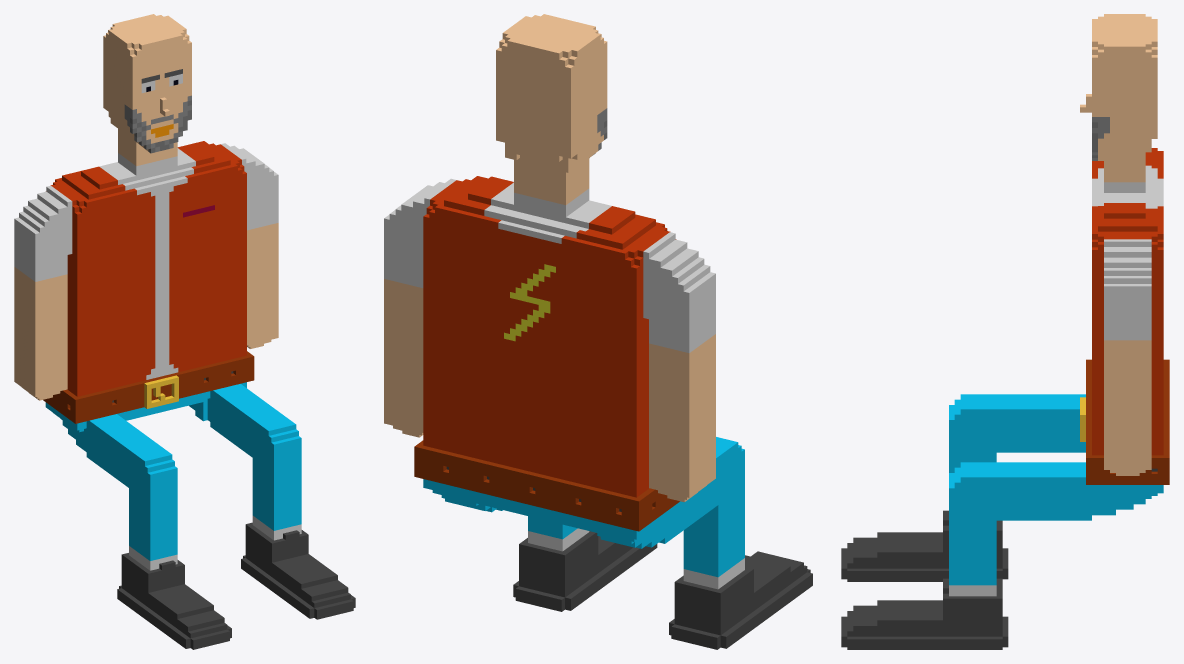
Rendered from clerk-sitting-1.gltf.
3 renders of one model, left to right at view 1: azimuth 30°, elevation 25°; view 2: azimuth 150°, elevation 25°; view 3: azimuth 270°, elevation 25°, orthographic. The views are drawn at different scales.
Visible parts, largest first — view 1: Node; view 2: Node; view 3: Node.
Part boxes in pixels (x1=…): Node: x1=14, y1=14, x2=355, y2=649; Node: x1=384, y1=14, x2=812, y2=649; Node: x1=841, y1=14, x2=1169, y2=649.
Size of the model in its own units: 5.3 by 10.6 by 5.5.
Materials: 1 (1 with a texture image).
